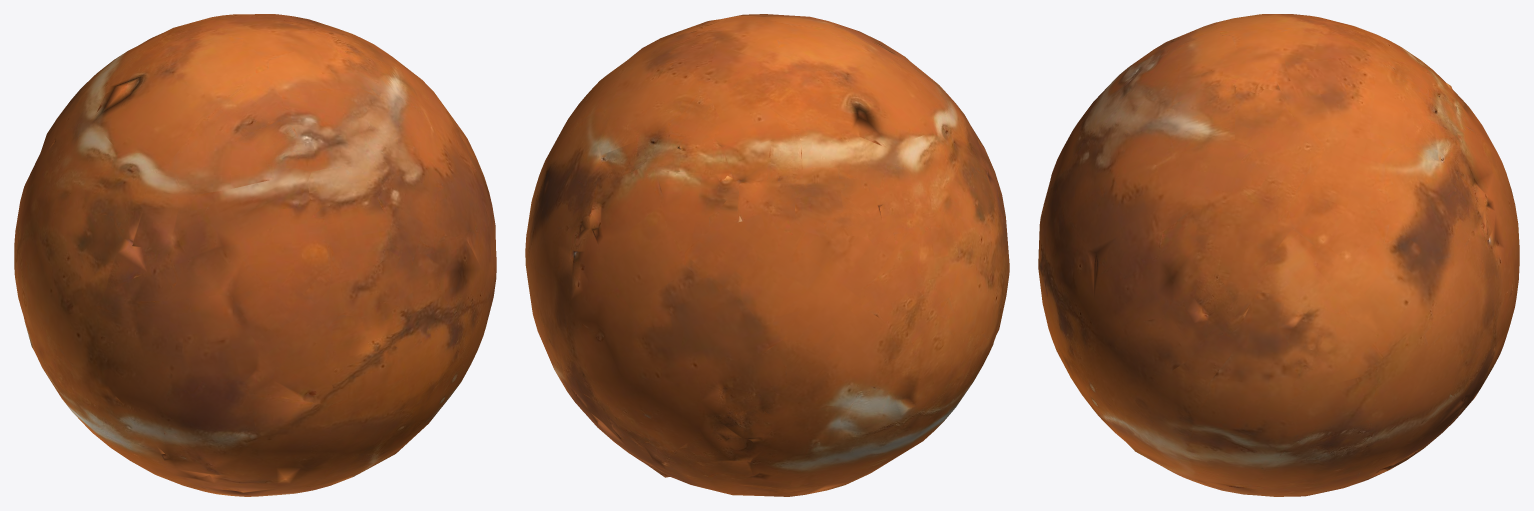
Rendered from mars.glb.
The picture shows the model from 3 angles, left to right: view 1: azimuth 30°, elevation 25°; view 2: azimuth 150°, elevation 25°; view 3: azimuth 270°, elevation 25°; orthographic projection.
Size of the model in its own units: 2 by 2 by 1.99.
Materials: 1 (1 with a texture image).
